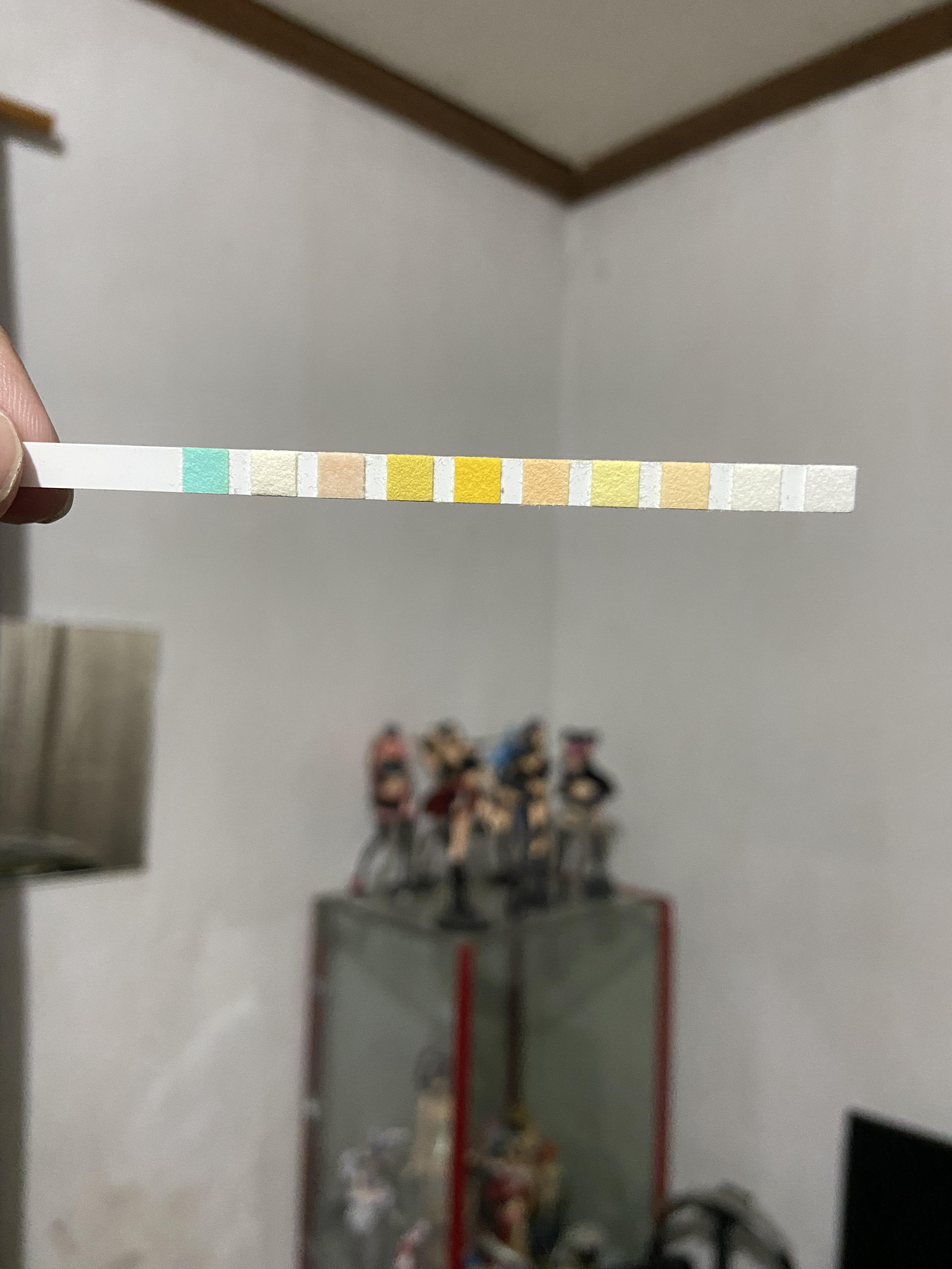Bilirubin: (250, 452, 296, 495)
Blood: (455, 457, 500, 503)
Glucose: (183, 450, 228, 493)
Ketone: (319, 455, 364, 498)
Leukocytes: (808, 466, 853, 512)
Nitrite: (734, 464, 779, 510)
Protein: (593, 460, 638, 507)
SpGravity: (387, 456, 432, 501)
Urobilinogen: (662, 463, 708, 508)
pH: (523, 461, 568, 505)
strip: (30, 444, 857, 513)
